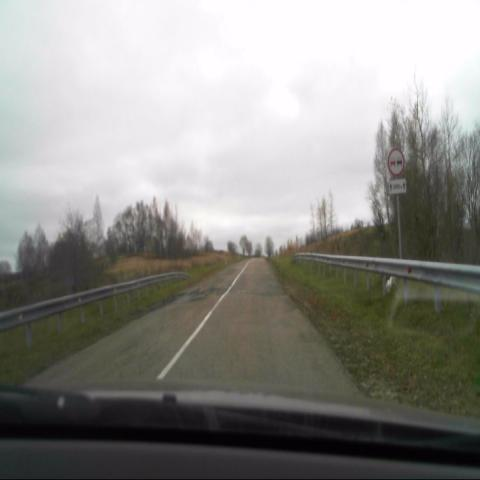3_20: (387, 148, 405, 175)
8_2_1: (389, 179, 406, 194)
